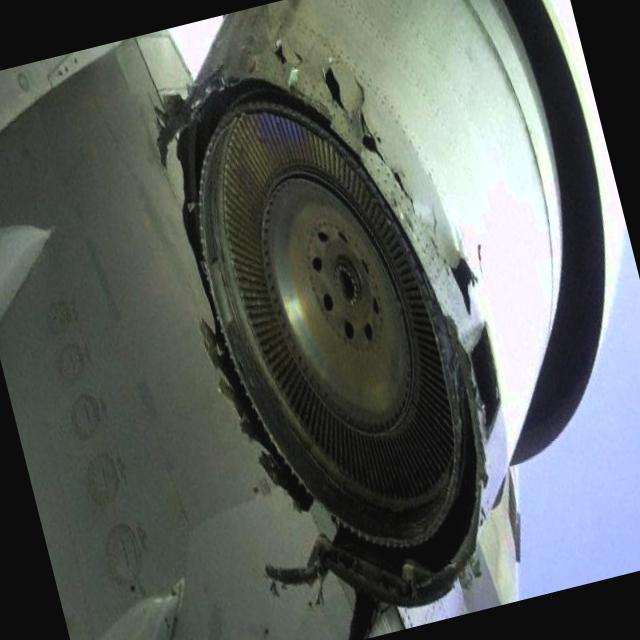crack: (272, 6, 496, 343)
